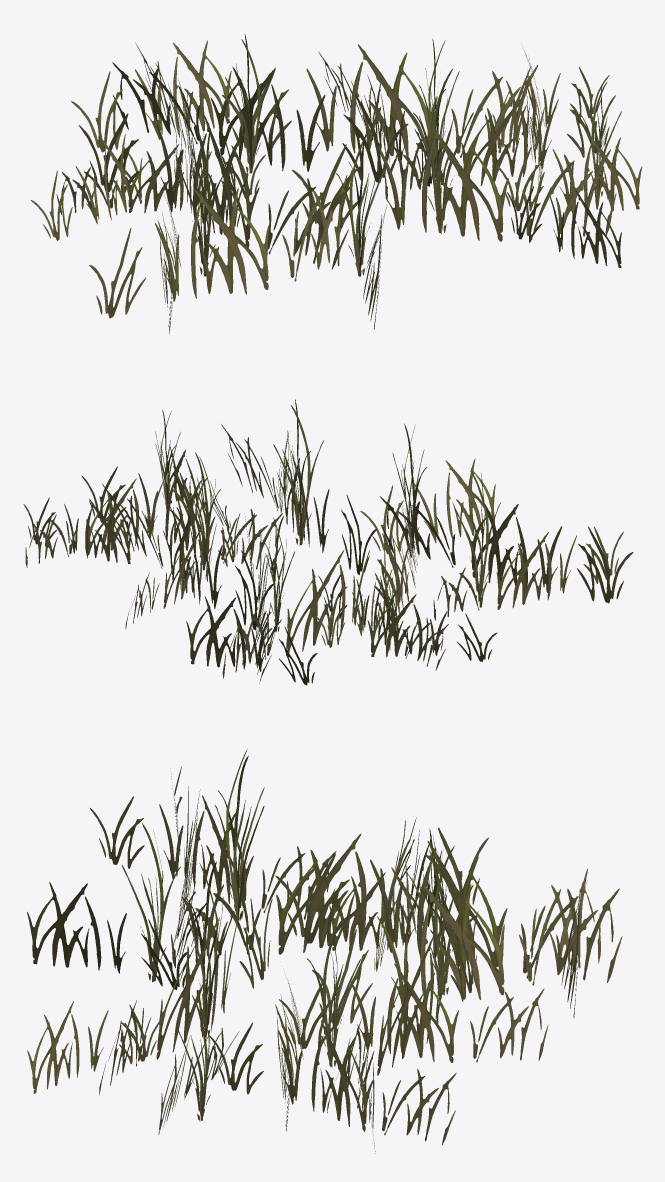
Rendered from grassLow03lod0.dae.
The picture shows the model from 3 angles, top to bottom: view 1: azimuth 30°, elevation 25°; view 2: azimuth 150°, elevation 25°; view 3: azimuth 270°, elevation 25°; orthographic projection. The views are drawn at different scales.
Visible parts, largest first — view 1: SM_Grass_Low_03_LOD; view 2: SM_Grass_Low_03_LOD; view 3: SM_Grass_Low_03_LOD.
Part boxes in pixels (x1,y1,x2,y2): SM_Grass_Low_03_LOD: (30,34,642,334); SM_Grass_Low_03_LOD: (23,399,633,685); SM_Grass_Low_03_LOD: (27,749,622,1153).
Size of the model in its own units: 1.54 by 0.4309 by 1.22.
1 material, 1 textured.
